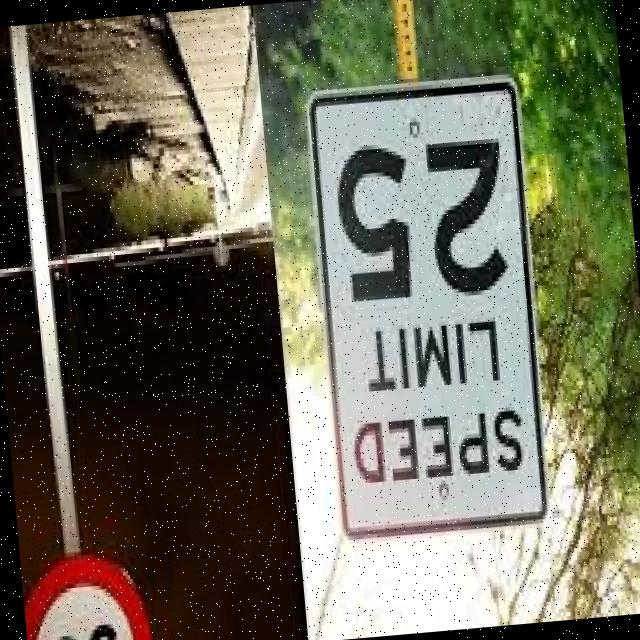speed_limit_50: (19, 541, 158, 640)
